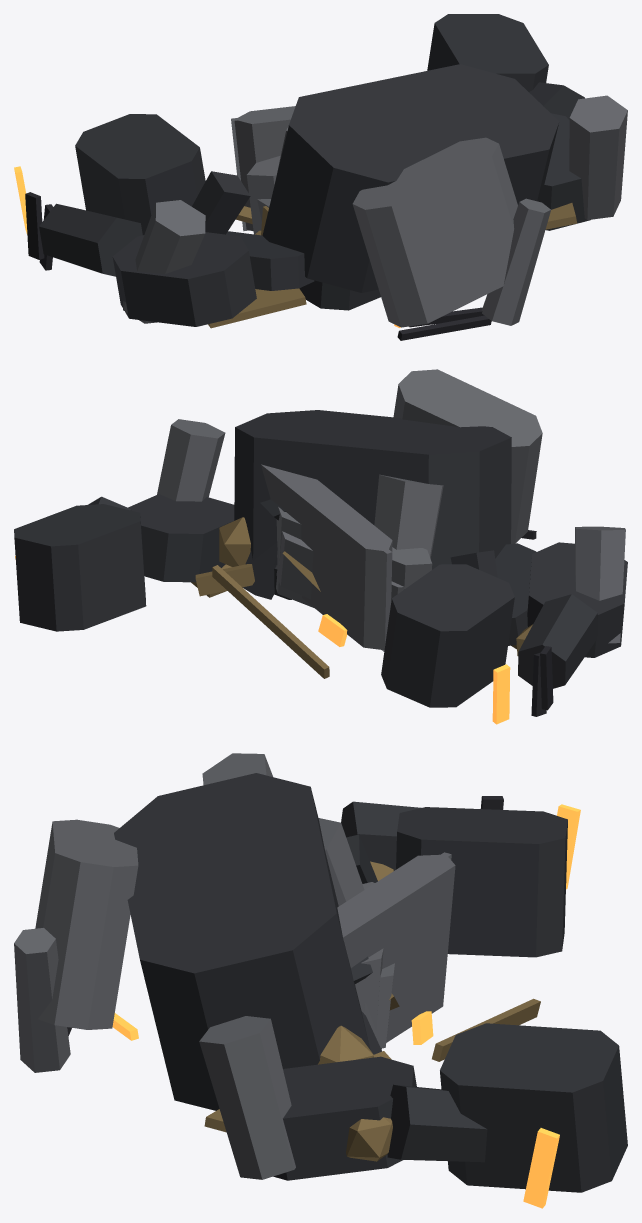
Rendered from Wreck_Aegis_Breaker.fbx.
3 renders of one model, top to bottom at view 1: azimuth 30°, elevation 25°; view 2: azimuth 150°, elevation 25°; view 3: azimuth 270°, elevation 25°, orthographic. The views are drawn at different scales.
Visible parts, largest first — view 1: Wreck_Aegis_Breaker; view 2: Wreck_Aegis_Breaker; view 3: Wreck_Aegis_Breaker.
Part boxes in pixels (x1,y1,x2,y2): Wreck_Aegis_Breaker: (14, 14, 627, 340); Wreck_Aegis_Breaker: (14, 369, 627, 724); Wreck_Aegis_Breaker: (14, 753, 627, 1208).
Size of the model in its own units: 1.06 by 0.3376 by 0.8374.
